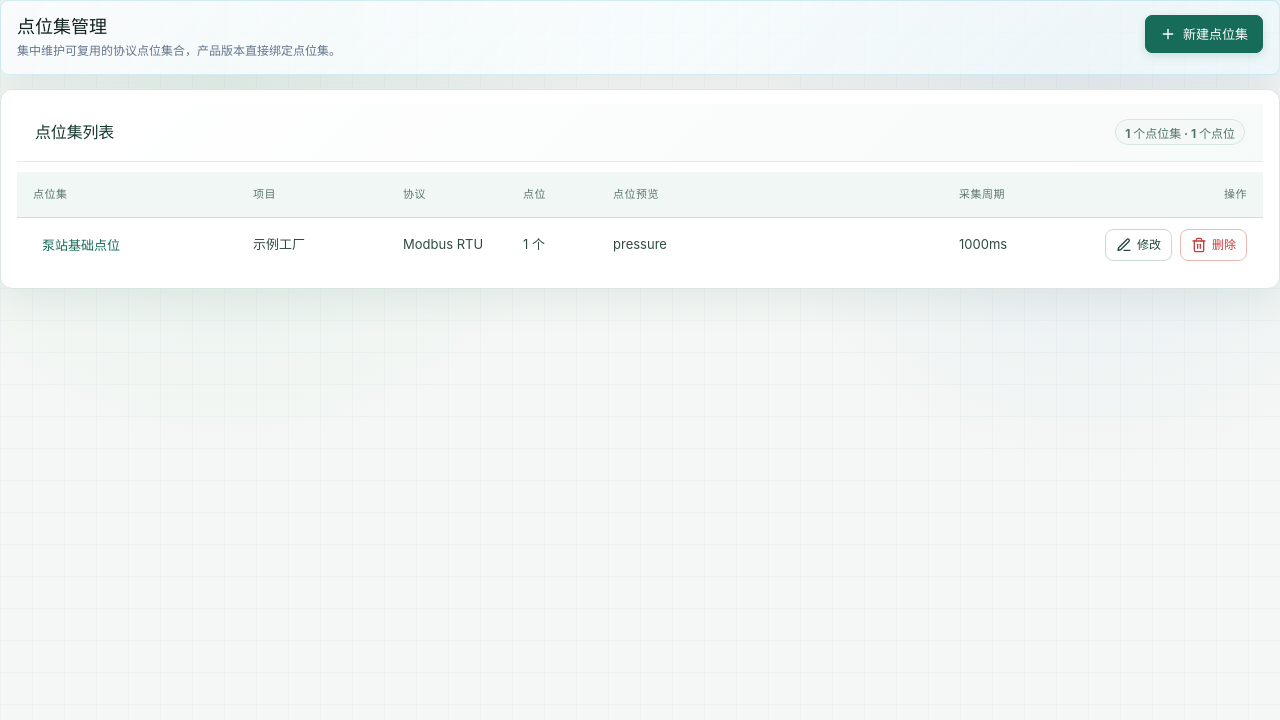
Test: PointSetsPage › saves the whole point set and supports Escape
Click the button with aria-label "修改点位集 泵站基础点位".
click(1138, 245)  # box [1105, 229, 1172, 261]
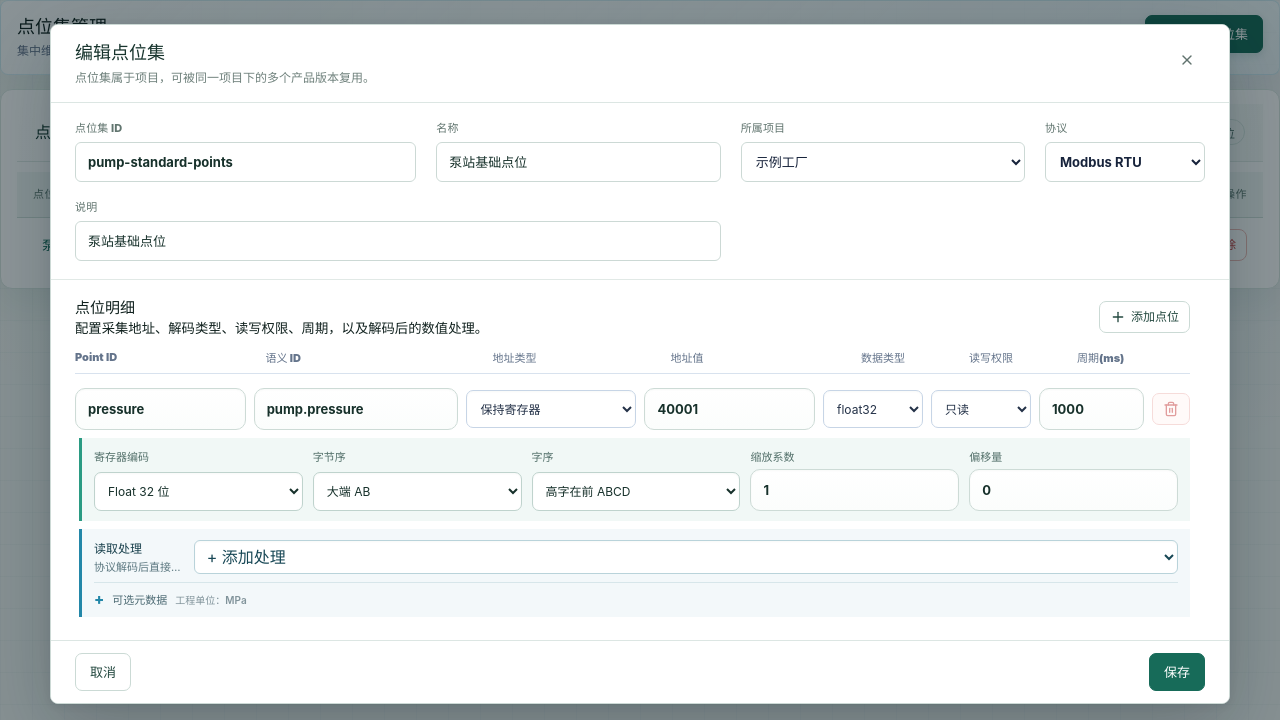
Replace the text in the number field named "点位 1 采集周期(ms)" with "5000" at (1092, 410), box [1039, 388, 1144, 430]
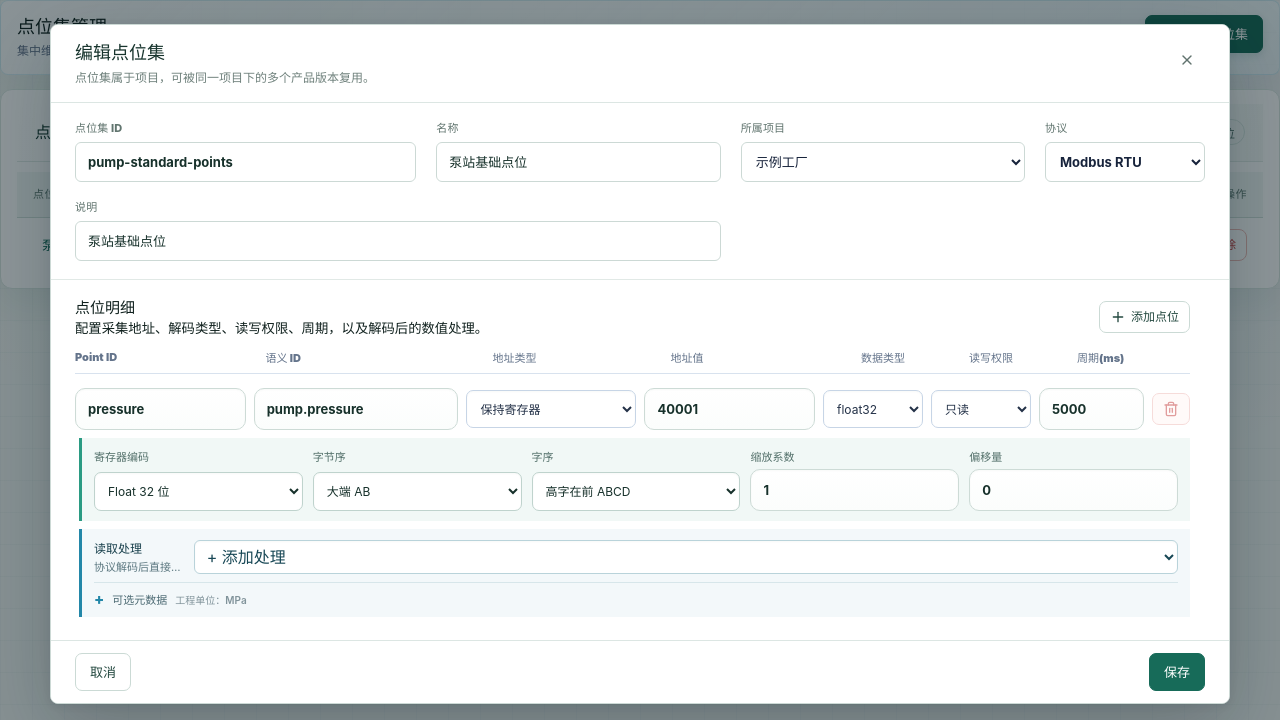
Click the button "保存".
click(1177, 672)  # box [1149, 653, 1205, 691]
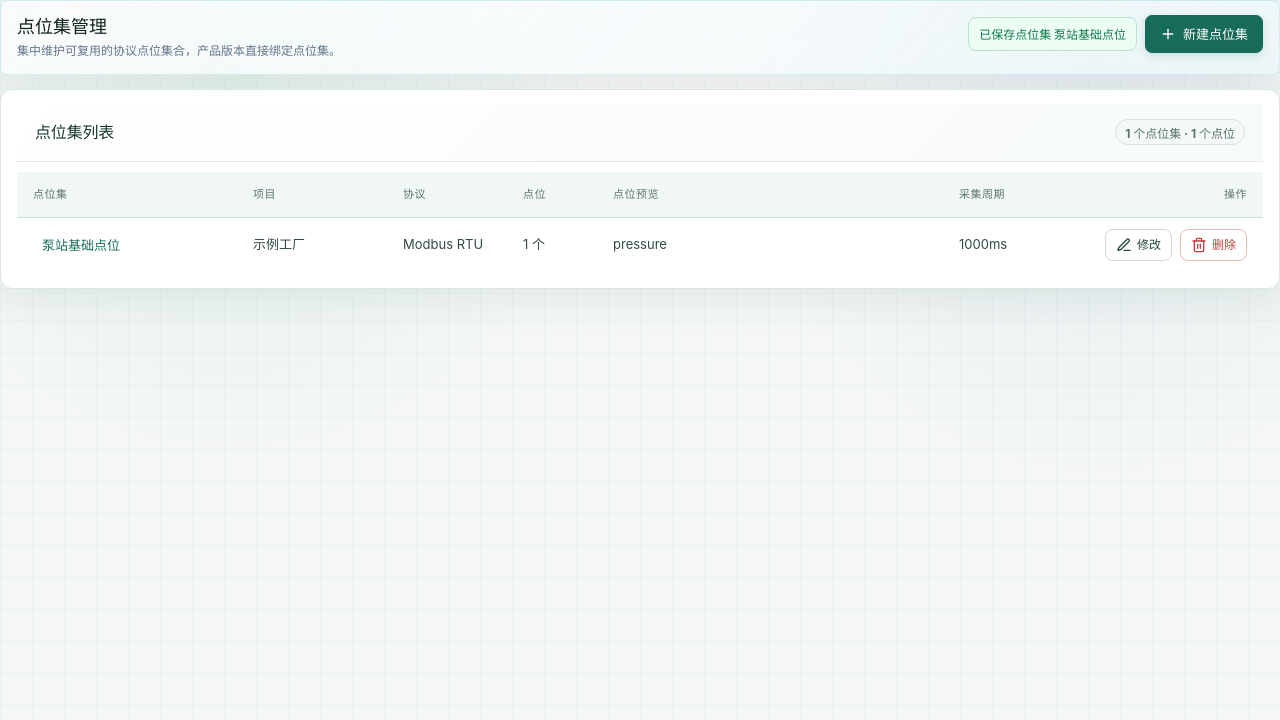
Click the button with aria-label "修改点位集 泵站基础点位".
click(1138, 245)  # box [1105, 229, 1172, 261]
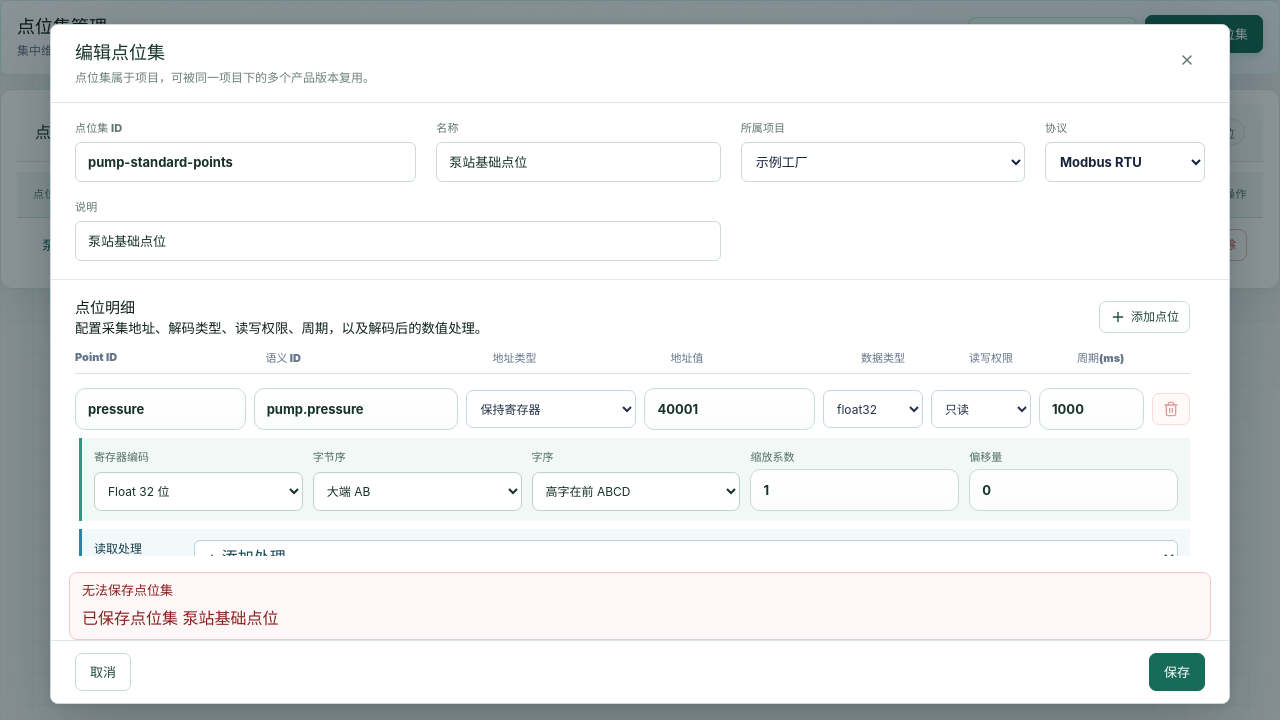
Now the dialog "编辑点位集" is shown
Press Escape
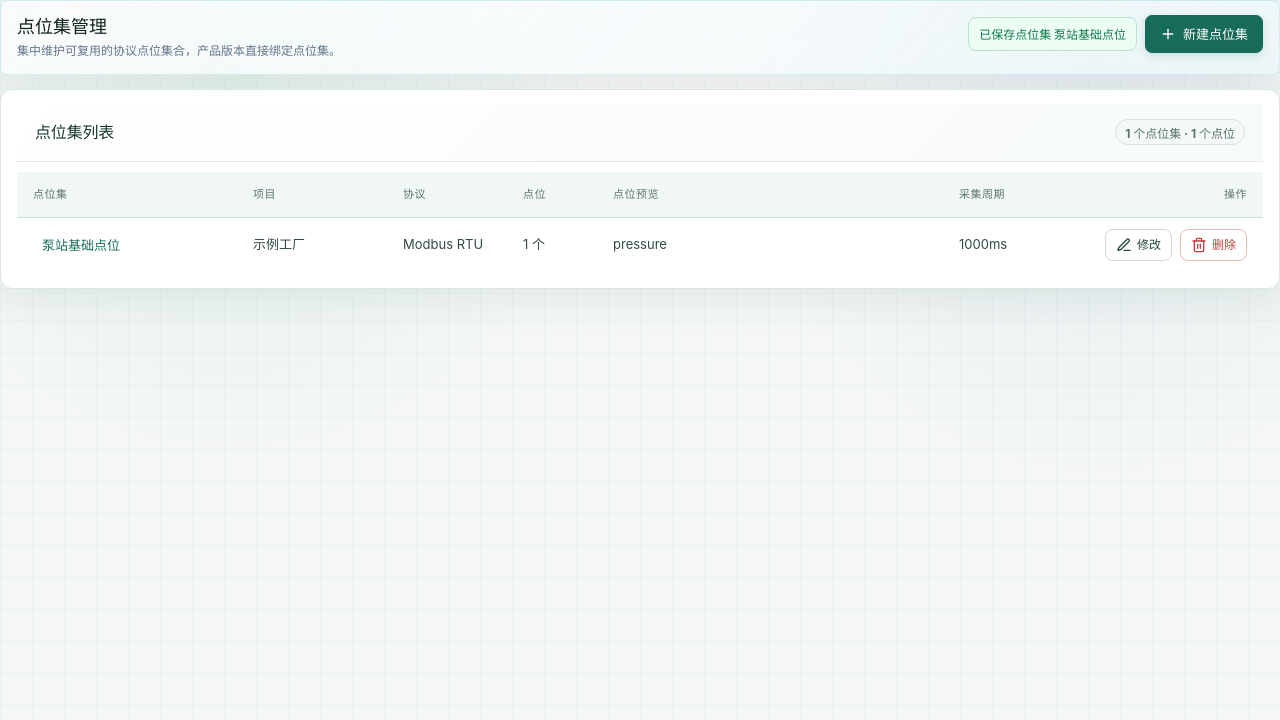
Now the heading "编辑点位集" is gone
